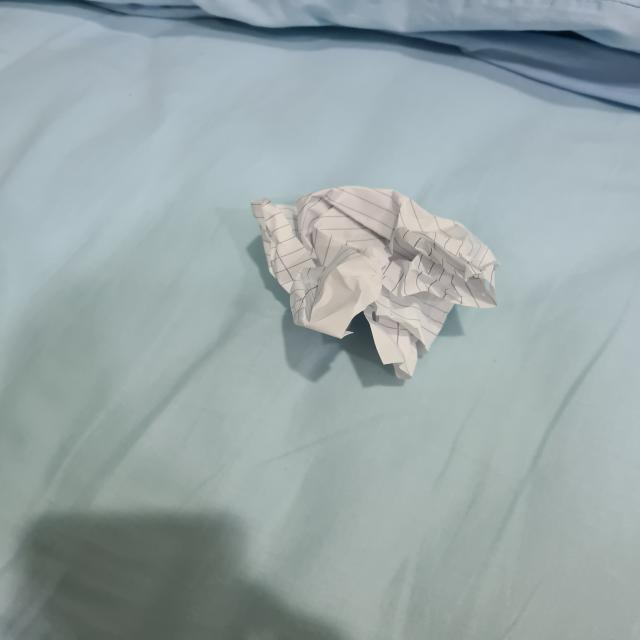Paper: (261, 187, 501, 377)
